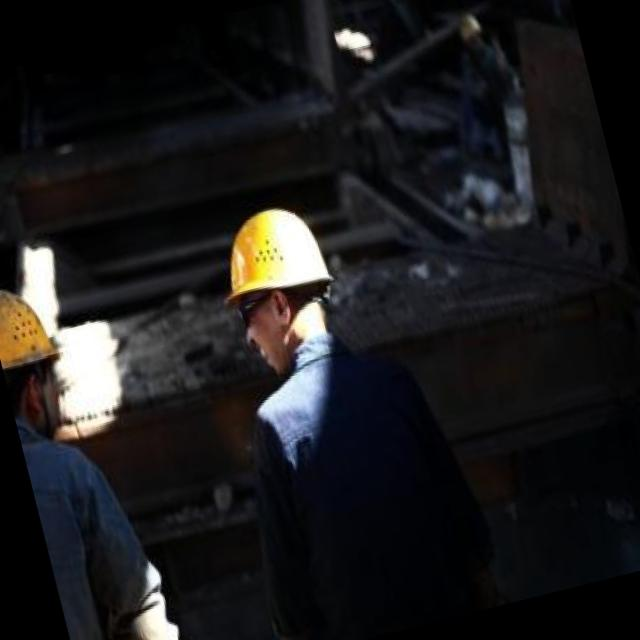helmet: (197, 178, 361, 396), (0, 261, 86, 445)
